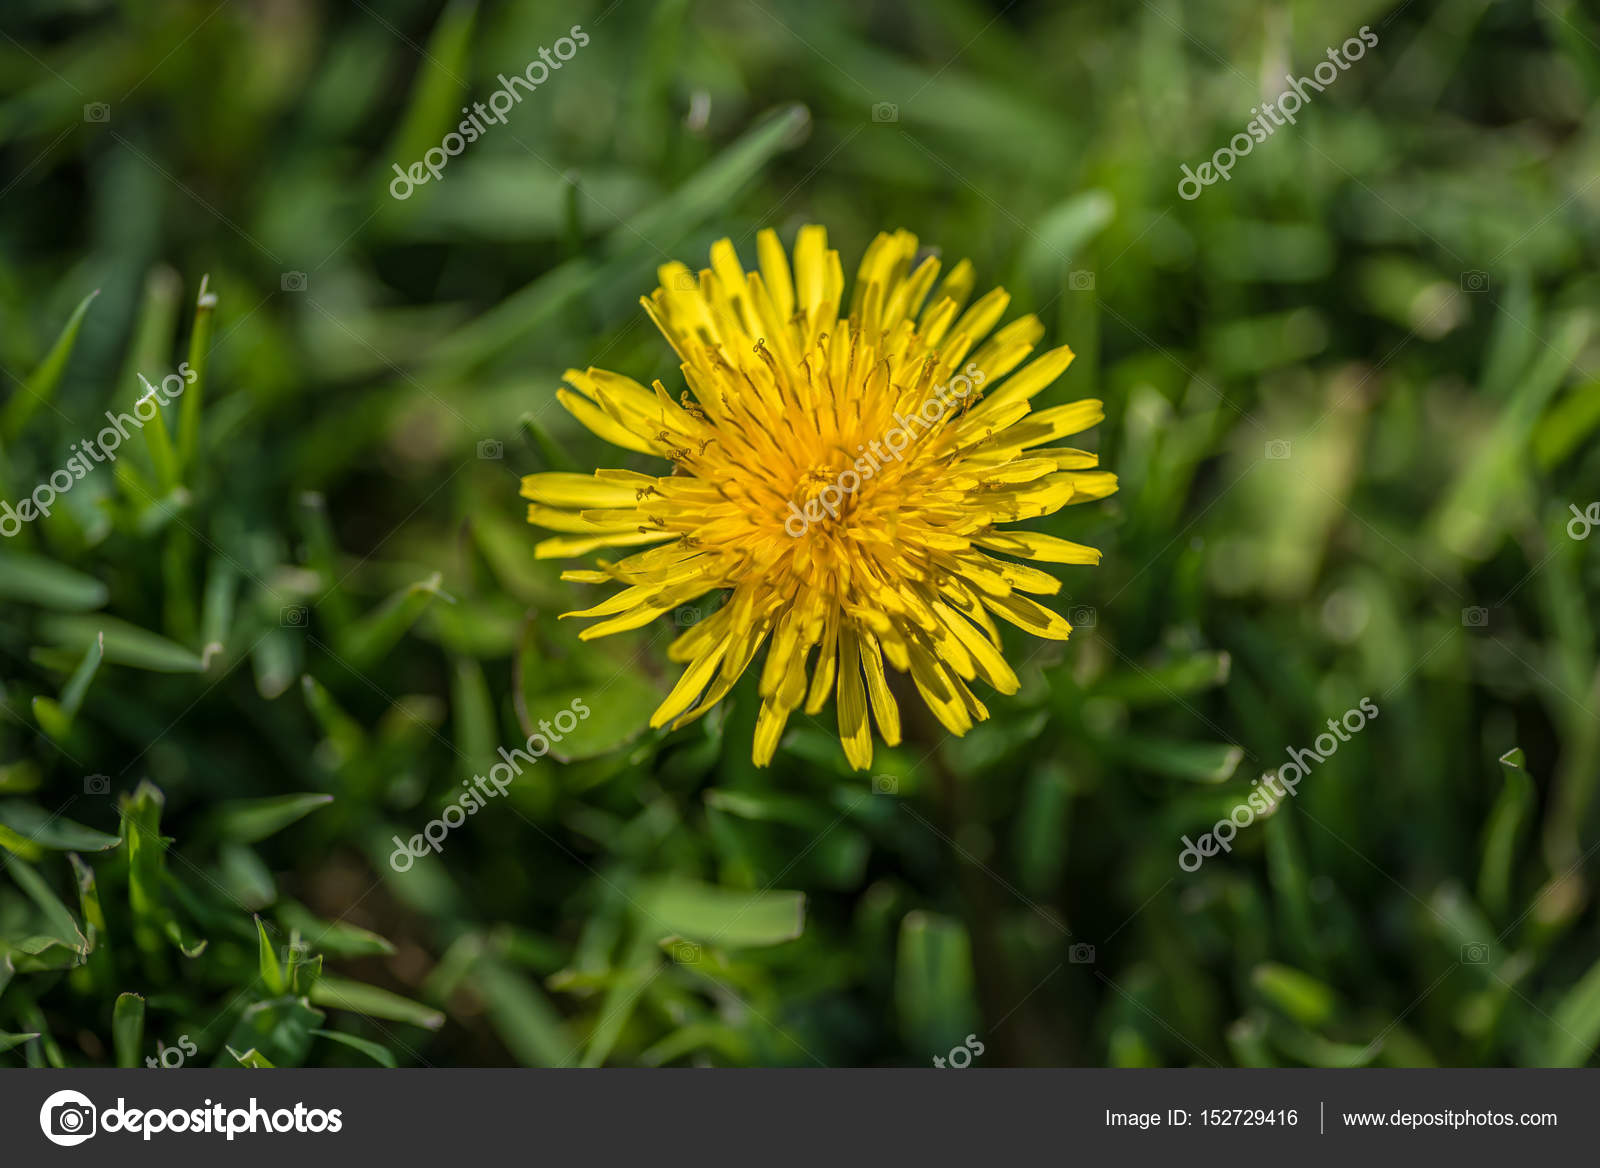dandelion: (557, 255, 1099, 753)
